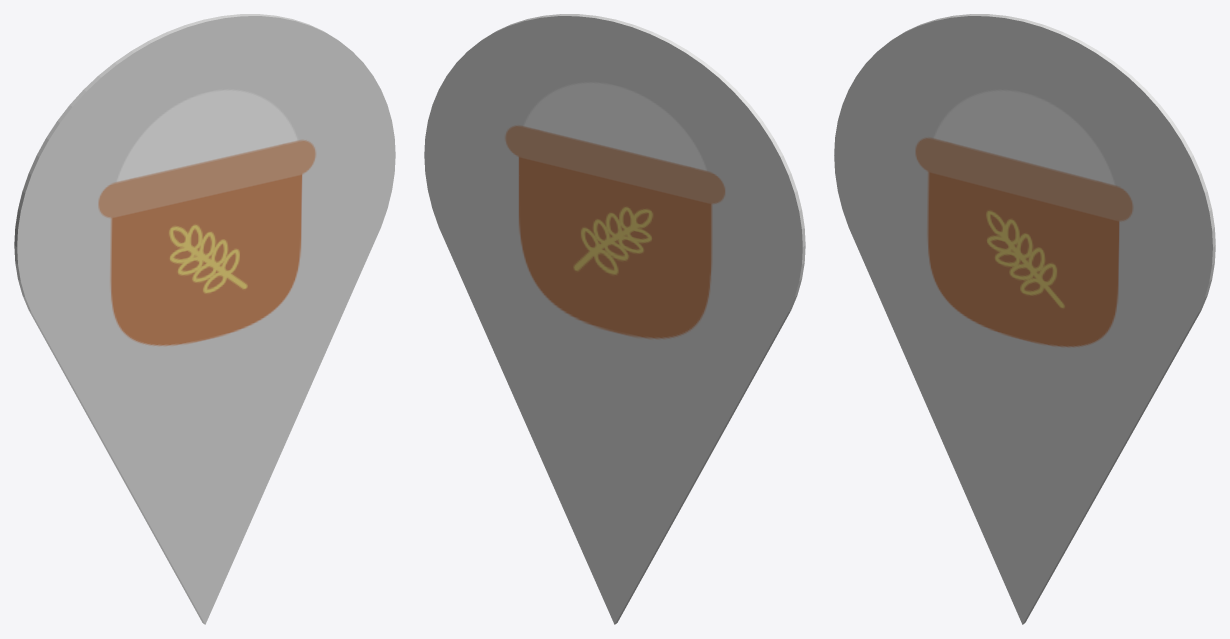
The picture shows the model from 3 angles, left to right: view 1: azimuth 30°, elevation 25°; view 2: azimuth 150°, elevation 25°; view 3: azimuth 330°, elevation 25°; orthographic projection.
Parts seen in each view (by area): view 1: Куб.002; view 2: Куб.002; view 3: Куб.002.
Part boxes in pixels (left/top/right/bottom): Куб.002: left=14, top=14, right=395, bottom=624; Куб.002: left=424, top=14, right=805, bottom=624; Куб.002: left=834, top=14, right=1215, bottom=624.
Size of the model in its own units: 0.5098 by 0.776 by 0.00663.
1 material, 1 textured.
